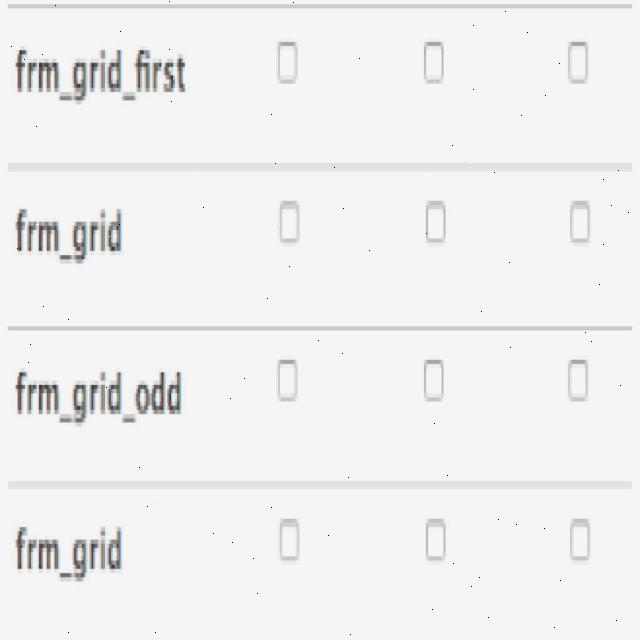checkbox: (276, 358, 298, 403), (568, 201, 591, 241), (567, 359, 588, 402), (278, 42, 300, 83), (424, 42, 444, 84), (570, 518, 590, 560), (426, 201, 446, 243), (279, 202, 300, 242), (568, 41, 588, 82), (424, 362, 444, 402), (280, 522, 300, 560), (427, 520, 445, 560)
label: (8, 361, 190, 431), (11, 41, 193, 108), (5, 197, 130, 266), (8, 517, 129, 585)
